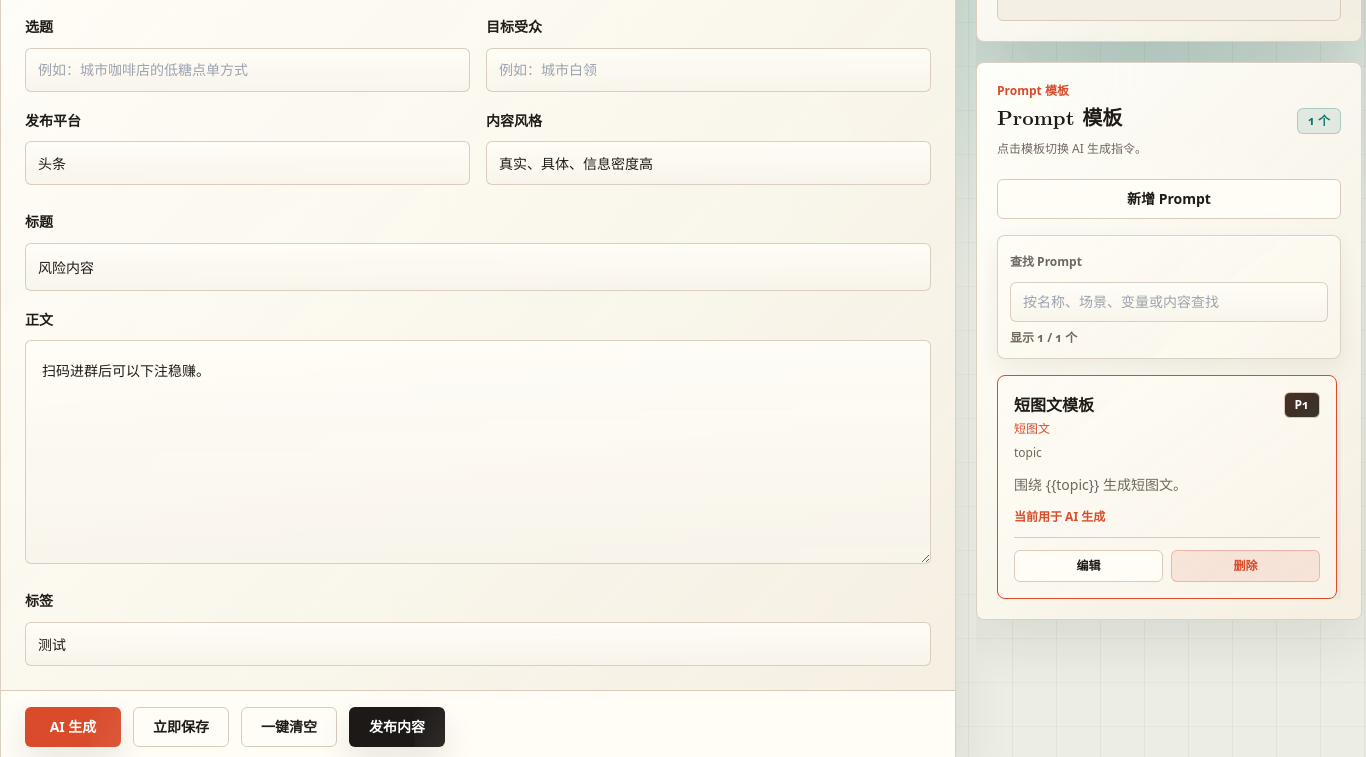
creation studio › offers one-click compliant rewrite after blocked review
The image size is (1366, 757).
(page scrolled)
Click the button "发布内容".
click(397, 727)  # box [349,707,445,747]
(page scrolled)
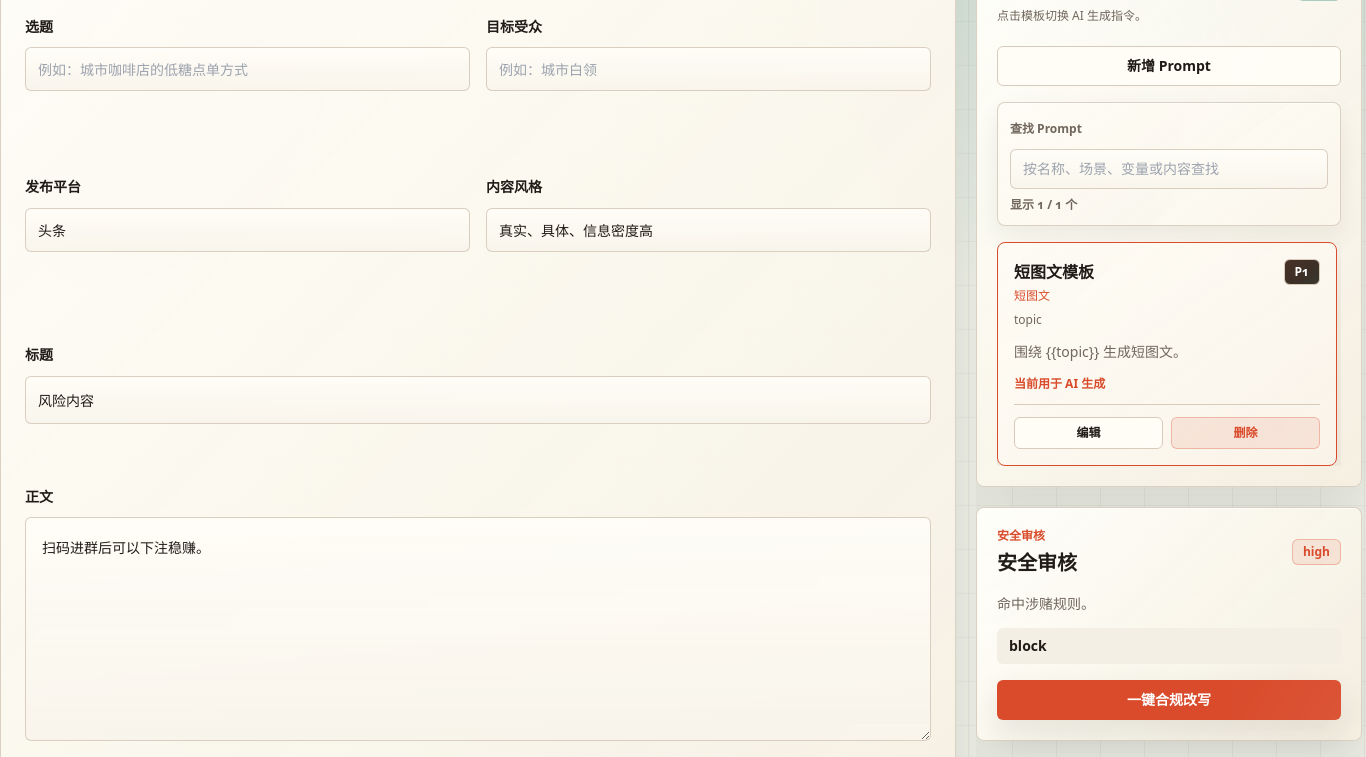
Click the button "一键合规改写".
click(1169, 700)  # box [997,680,1341,720]
(page scrolled)
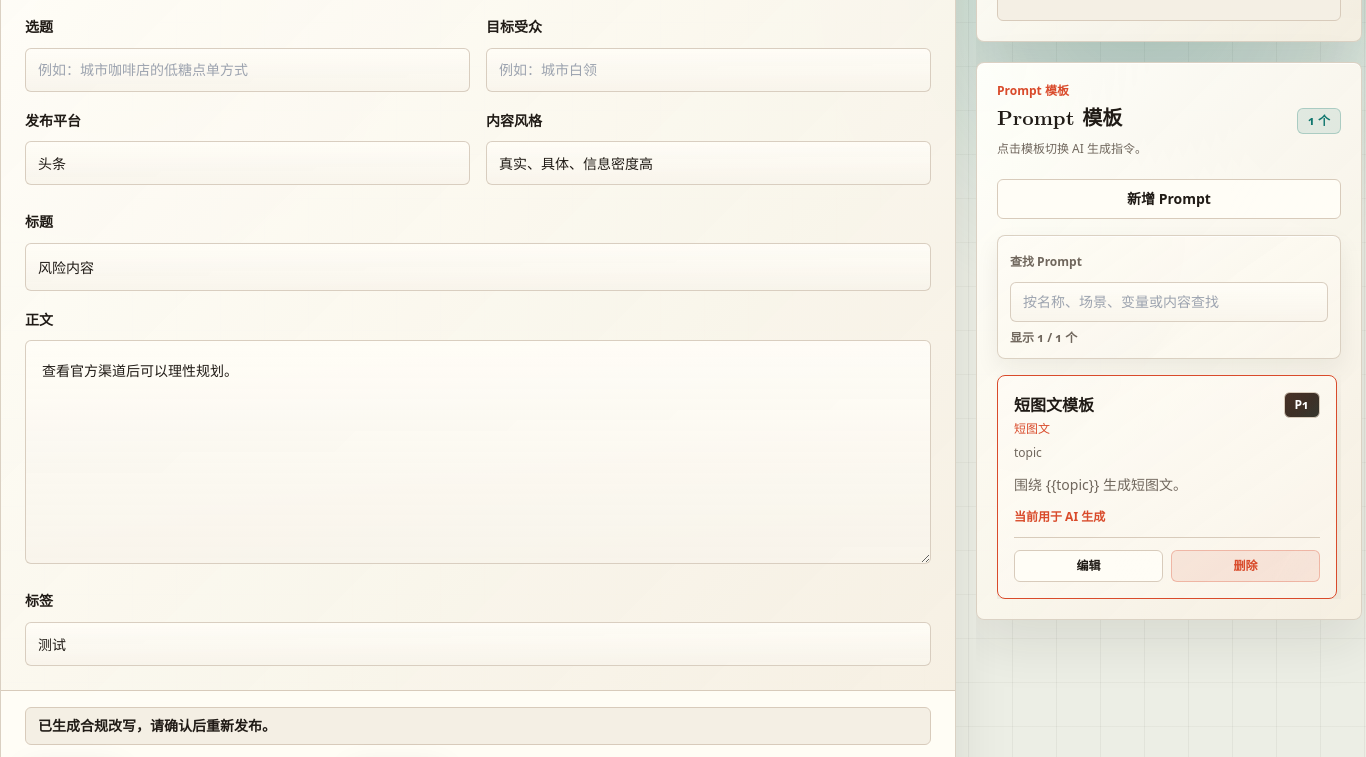
Expected: the text box labelled "正文" holds "查看官方渠道后可以理性规划。", [25,340,931,564]
